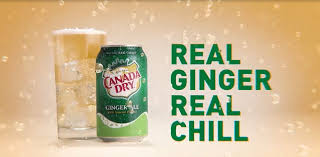Lata: (94, 44, 149, 146)
